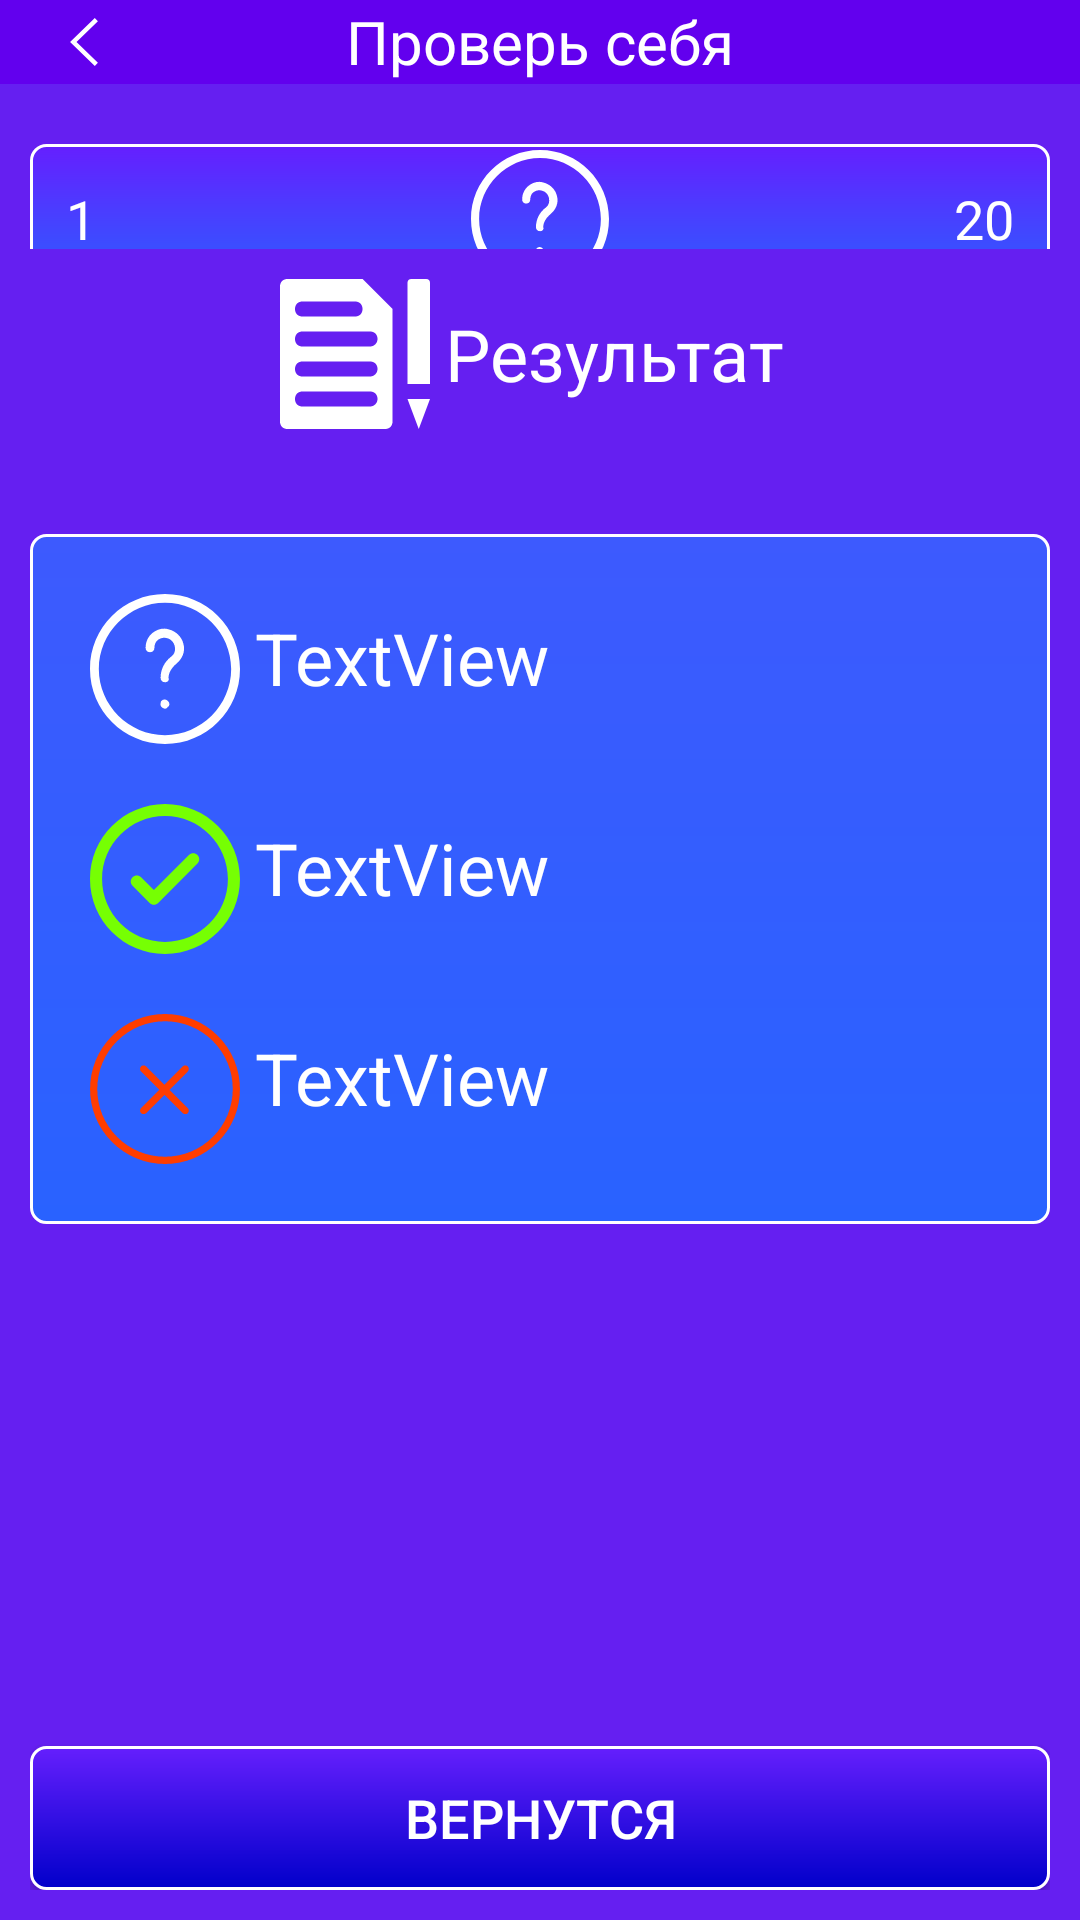

Named icons in this screenshot (1080px×1920px) and their bounding boxes, (x1, y1, x2, y2):
cancel symbol inside circle: (90, 1014, 240, 1164)
check mark: (90, 804, 240, 954)
left arrow chevron: (70, 18, 98, 66)
